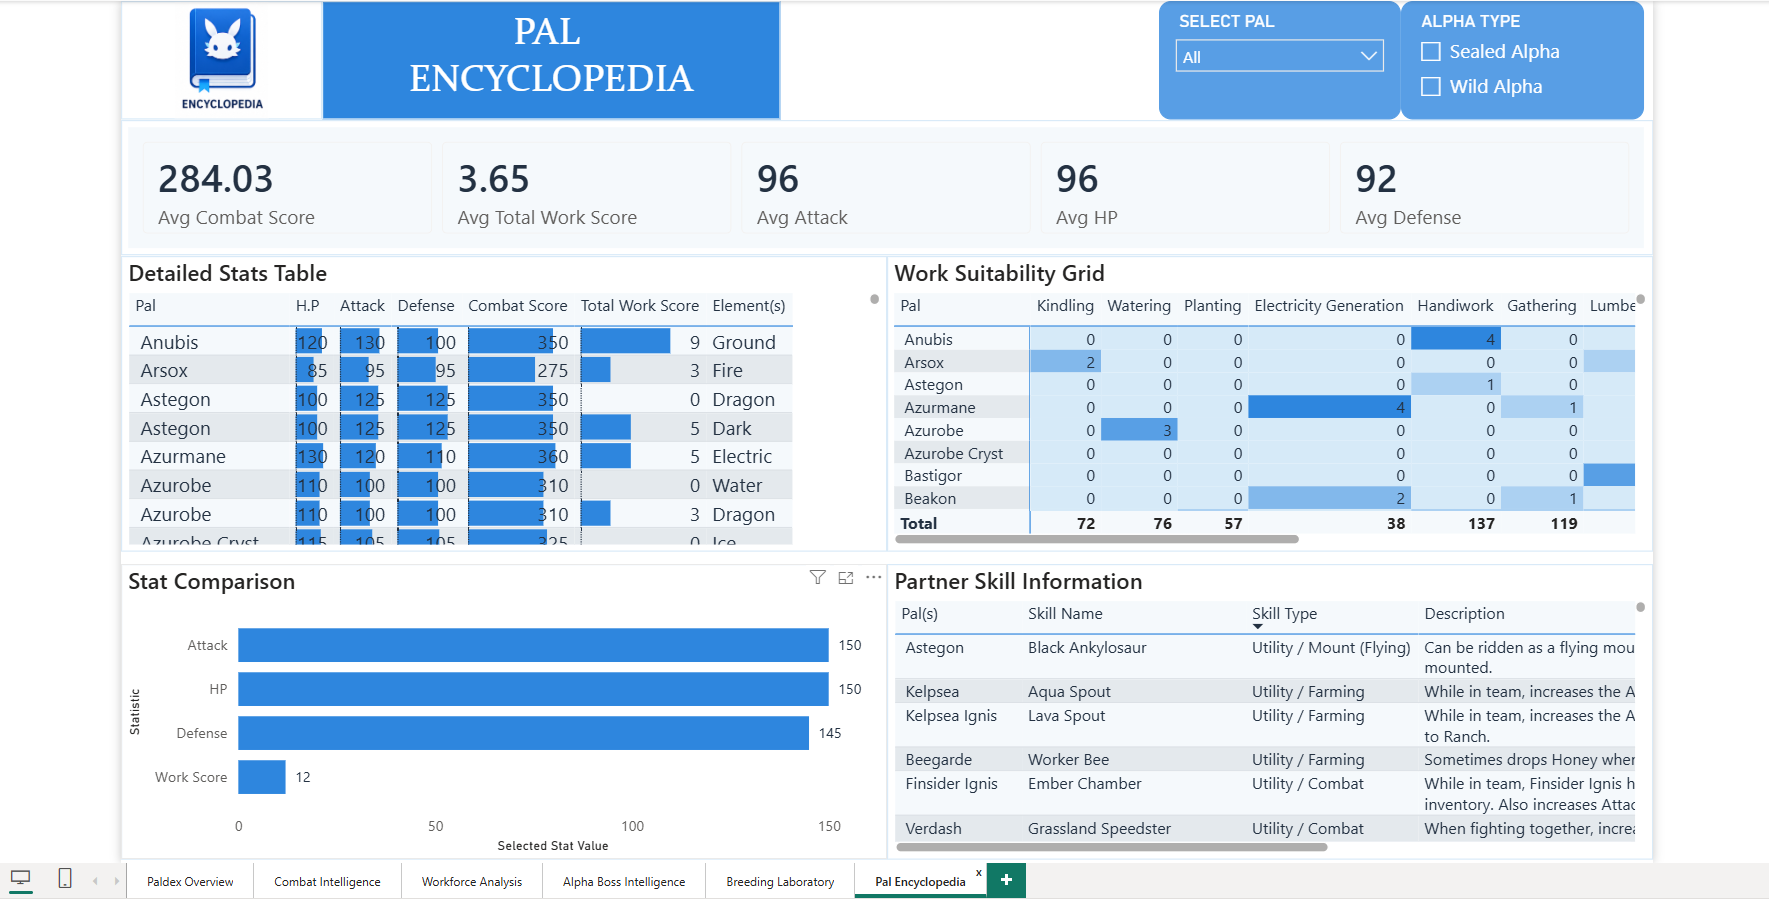

This screenshot's page, from the dashboard's own definition file:
{"tool":"powerbi","page":{"name":"Pal Encyclopedia","canvas":[1280,720],"ordinal":5},"visuals":[{"type":"cardVisual","fields":{"Data":["Avg(Paldex.Combat Score)","Avg(Paldex.Total Work Score)","Paldex.Avg Attack","Paldex.Avg HP","Paldex.Avg Defense"]},"box":[0,99.3,1280.4,113.5],"z":0},{"type":"slicer","fields":{"Values":["Paldex.Pal"]},"box":[867.2,0,202.2,99.3],"z":1000},{"type":"slicer","fields":{"Values":["Alpha Pals.Alpha Type"]},"box":[1069.4,0,203.1,99.3],"z":2000},{"type":"tableEx","title":"Detailed Stats Table","fields":{"Values":["Paldex.Pal","Paldex.H.P","Paldex.Attack","Paldex.Defense","Paldex.Combat Score","Paldex.Total Work Score","Paldex.Element(s)"]},"box":[0,213,640,247.1],"z":3000},{"type":"clusteredBarChart","title":"Stat Comparison","fields":{"Category":["Statistics.Statistic"],"Y":["Statistics.Selected Stat Value"]},"box":[0,470,640,247],"z":4000},{"type":"pivotTable","title":"Work Suitability Grid","fields":{"Rows":["Paldex.Pal"],"Values":["Sum(Paldex.Kindling)","Sum(Paldex.Watering)","Sum(Paldex.Planting)","Sum(Paldex.Electricity Generation)","Sum(Paldex.Handiwork)","Sum(Paldex.Gathering)","Sum(Paldex.Lumbering)","Sum(Paldex.Mining)","Sum(Paldex.Medicine Production)","Sum(Paldex.Cooling)","Sum(Paldex.Transporting)","Sum(Paldex.Farming)"]},"box":[640,213,640,247],"z":5000},{"type":"tableEx","title":"Partner Skill Information","fields":{"Values":["Partner Skills.Pal(s)","Partner Skills.Skill Name","Partner Skills.Skill Type","Partner Skills.Description"]},"box":[640,470,640,247],"z":6000},{"type":"textbox","box":[167.6,0,383.1,99.3],"z":6001},{"type":"image","box":[0,0,168,99.2],"z":6002}]}

Visuals, with their boxes on the page's 1280x720 design canvas (x1, y1, x2, y2). These are canvas units, not pixel positions in the 1769x899 screenshot, which may show the page scaled, cropped or inside an application window:
cardVisual - Avg(Paldex.Combat Score) x Avg(Paldex.Total Work Score): <region>0, 99, 1280, 213</region>
slicer - Paldex.Pal: <region>867, 0, 1069, 99</region>
slicer - Alpha Pals.Alpha Type: <region>1069, 0, 1272, 99</region>
"Detailed Stats Table" tableEx: <region>0, 213, 640, 460</region>
"Stat Comparison" clusteredBarChart: <region>0, 470, 640, 717</region>
"Work Suitability Grid" pivotTable: <region>640, 213, 1280, 460</region>
"Partner Skill Information" tableEx: <region>640, 470, 1280, 717</region>
textbox: <region>168, 0, 551, 99</region>
image: <region>0, 0, 168, 99</region>
